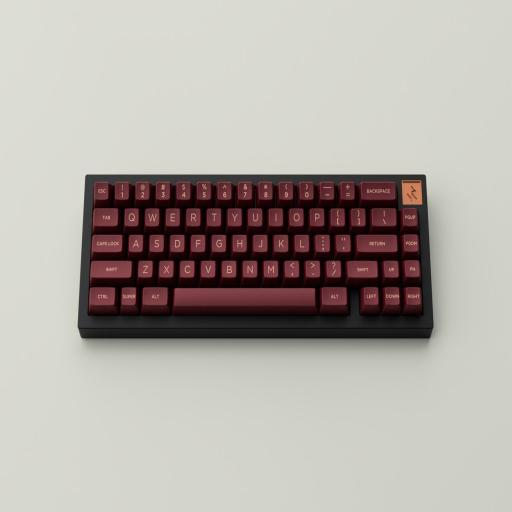keyboard: (74, 166, 466, 360)
